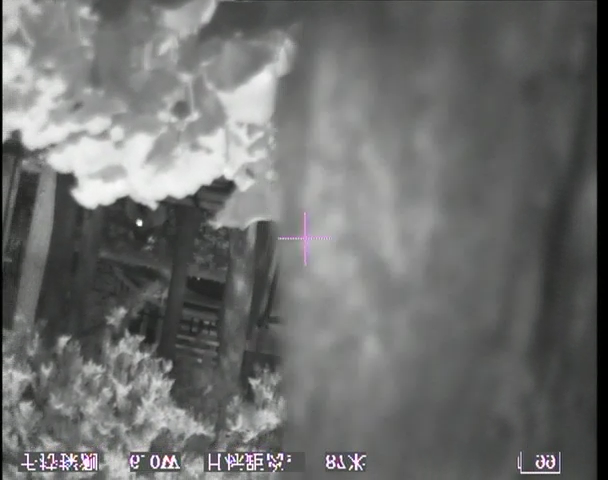my: (135, 217, 145, 228)
